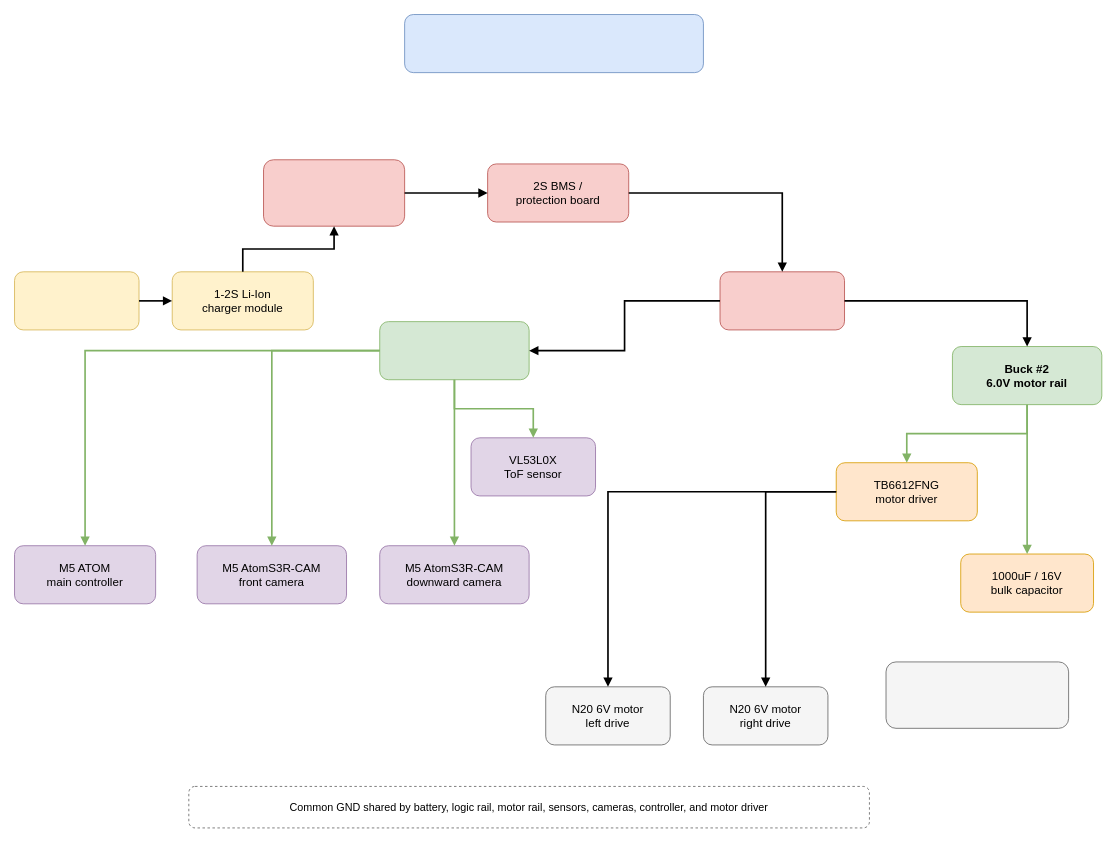
Image size: 1116x842. Some labels were removed from this diagram. The shapes that lost their labels are listed below. From the top down, each one's centre as x and y in pixels, then its label:
the point at 553,43: ATOM Sumo Electrical Block Diagram 2S 18650 + N20 6V
the point at 334,192: 2S 18650 battery pack 7.2-8.4V
the point at 76,300: USB-C PD Trigger 12V input
the point at 782,300: Master power switch
the point at 454,350: Buck #1 5.0V logic rail
the point at 977,694: Wheel layout 4 wheels total 2 driven + 2 passive support
